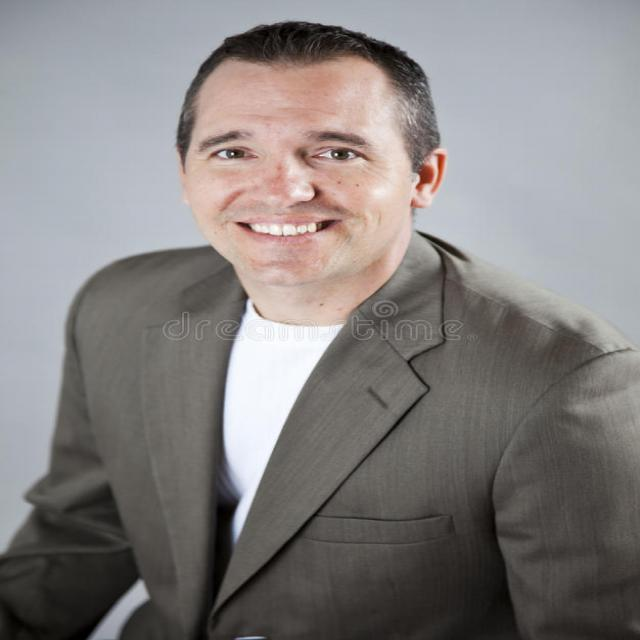nothing: (163, 10, 450, 140)
